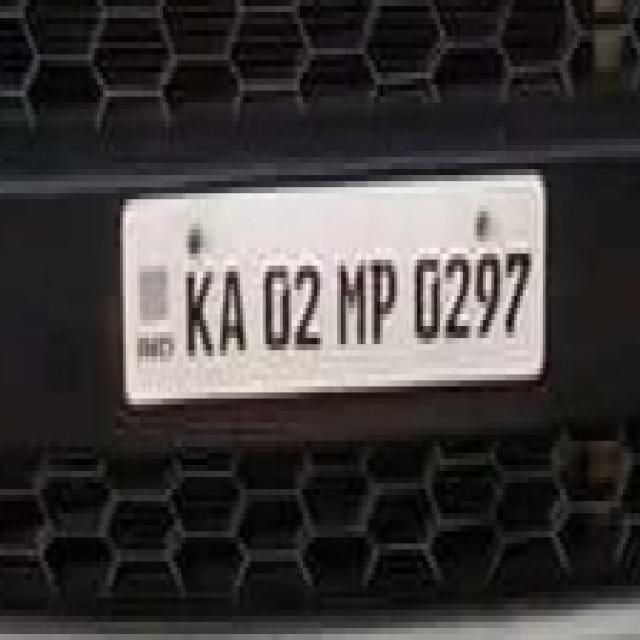0: (409, 243, 444, 346), (260, 253, 292, 355)
7: (505, 245, 533, 342)
9: (473, 248, 503, 342)
K: (180, 263, 215, 363), (216, 268, 248, 360)
M: (334, 253, 368, 360)
P: (369, 252, 398, 352)
